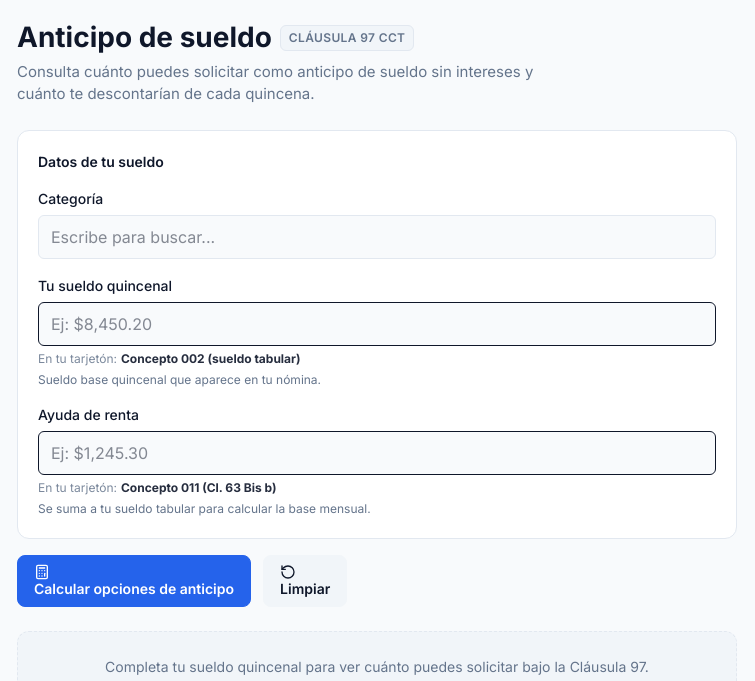
it: Calculadoras Rediseño - UX y Equivalencia Matemática › Clausula97Calculator (Anticipo de sueldo) › calcula anticipos para 1, 2, 3 y 4 meses con selección interactiva
Expected: the heading "Anticipo de sueldo" is shown, [17,21,272,55]
Expected: the text "Cláusula 97 CCT" is shown, [280,25,414,51]
Step 1. Type "10000" into the field labelled "Tu sueldo quincenal" → (377, 324), box [38,302,716,346]
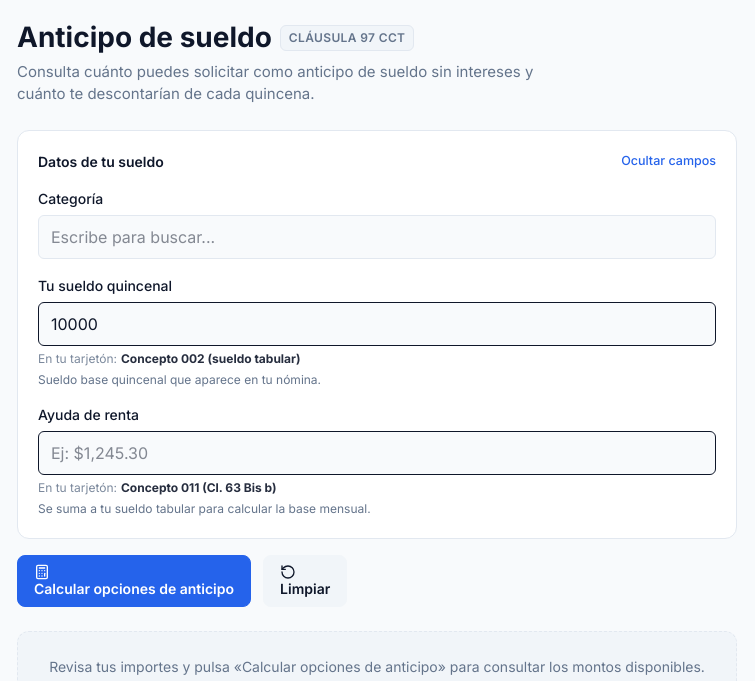
Step 2. Type "2000" into the field labelled "Ayuda de renta" → (377, 453), box [38,431,716,475]
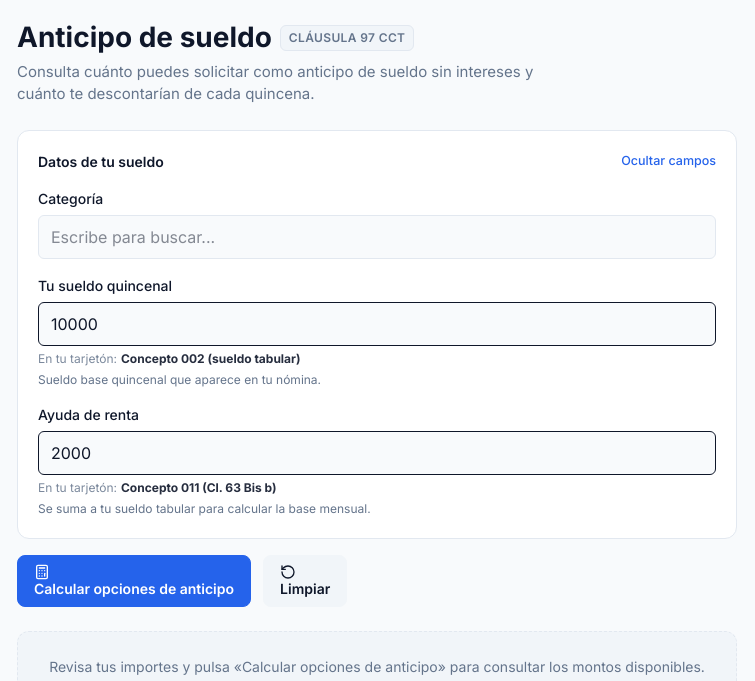
Step 3. Click the button "Calcular opciones de anticipo" → click(134, 581), box [17,555,251,607]
(page scrolled)
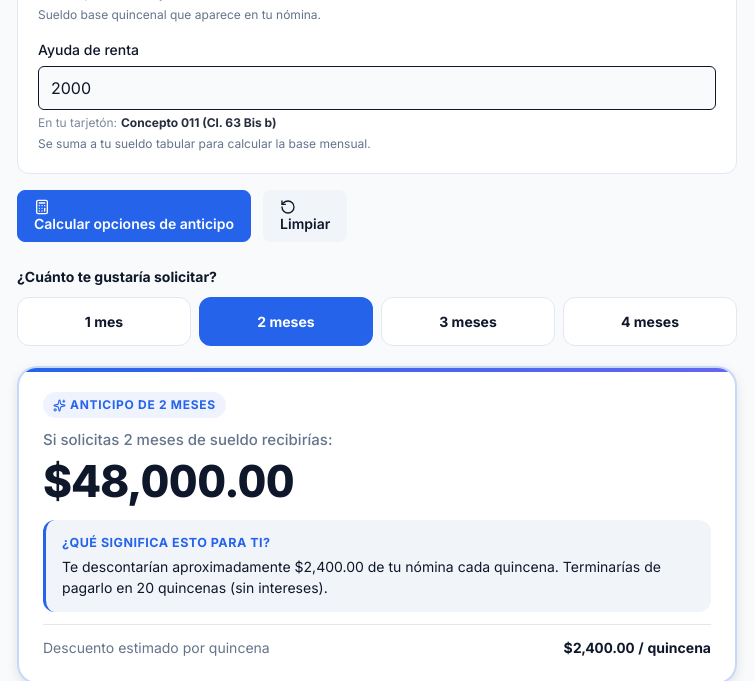
Now the text "ANTICIPO DE 2 MESES" is shown, box [43,392,226,418]
Note: Cambio interactivo a 4 meses
Step 4. Click the button "4 meses" → click(650, 322), box [563,297,737,346]
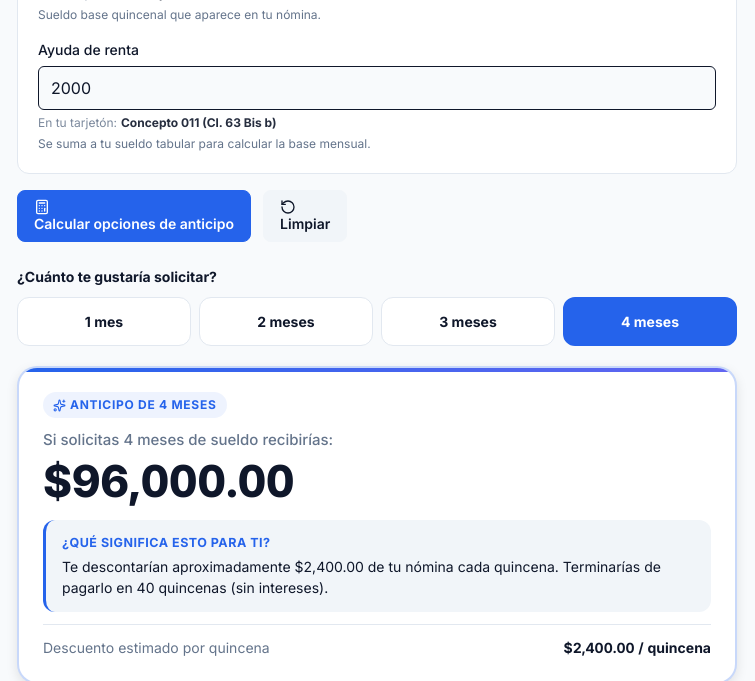
Now the text "ANTICIPO DE 4 MESES" is shown, box [43,392,226,418]
